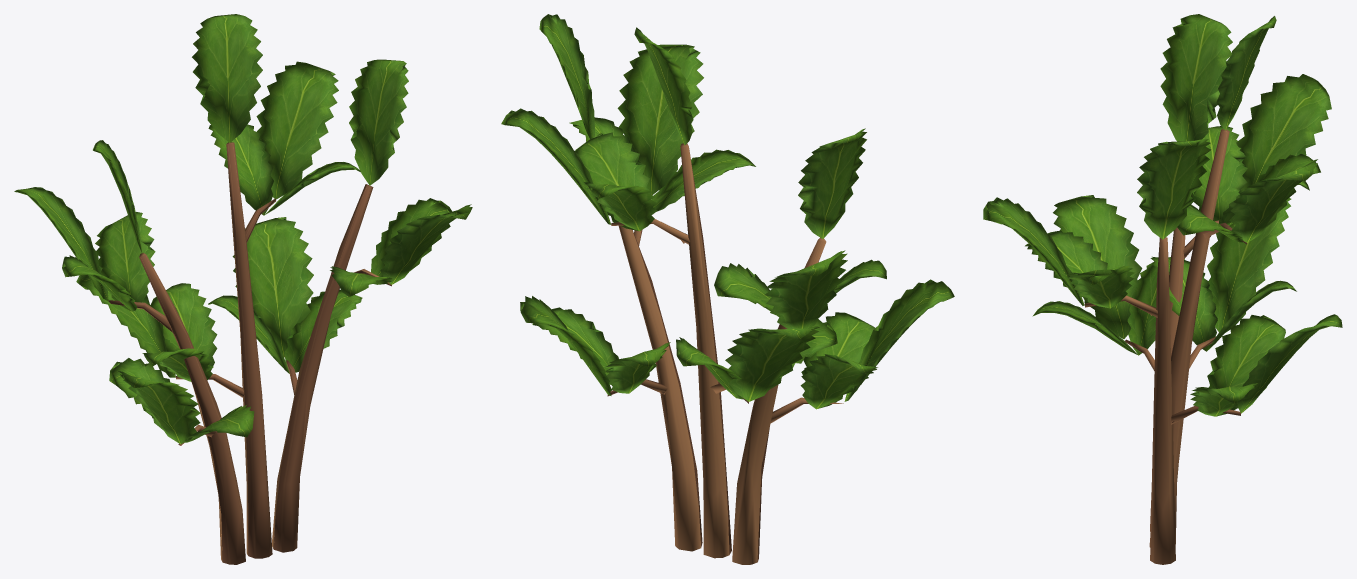
Rendered from NP_Raspberry_Young_LOD1.fbx.
3 renders of one model, left to right at view 1: azimuth 30°, elevation 25°; view 2: azimuth 150°, elevation 25°; view 3: azimuth 270°, elevation 25°, orthographic. The views are drawn at different scales.
Parts seen in each view (by area): view 1: NP_Raspberry_Young; view 2: NP_Raspberry_Young; view 3: NP_Raspberry_Young.
Part boxes in pixels (x1=…): NP_Raspberry_Young: x1=14, y1=14, x2=472, y2=564; NP_Raspberry_Young: x1=501, y1=14, x2=954, y2=564; NP_Raspberry_Young: x1=983, y1=14, x2=1342, y2=564.
Bounding box in the file's own units: 45.94 × 65.05 × 39.81.
